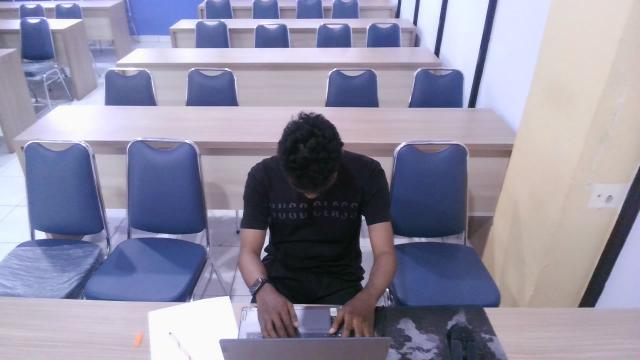Head_Down_Extreme: (234, 102, 395, 299)
